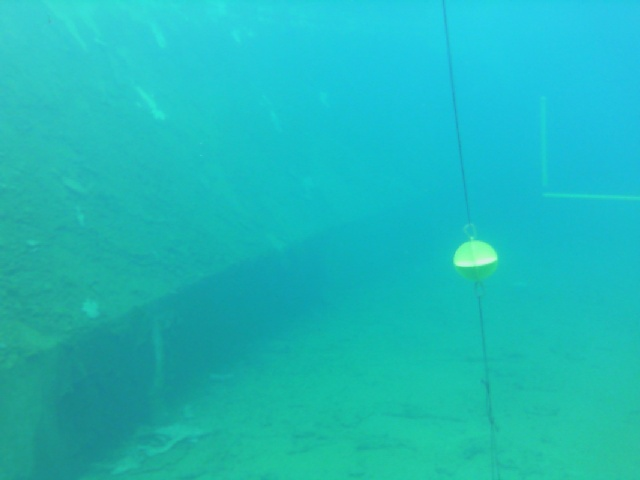buoy_yellow: (453, 238, 500, 285)
